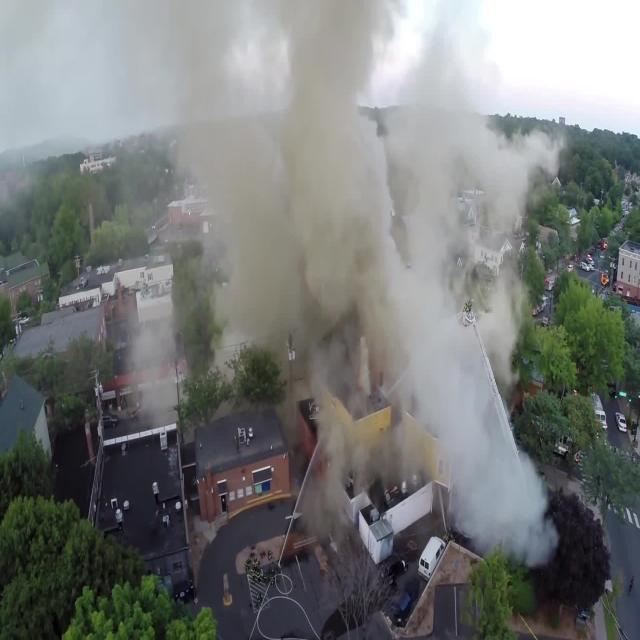Smoke: (103, 0, 560, 580)
